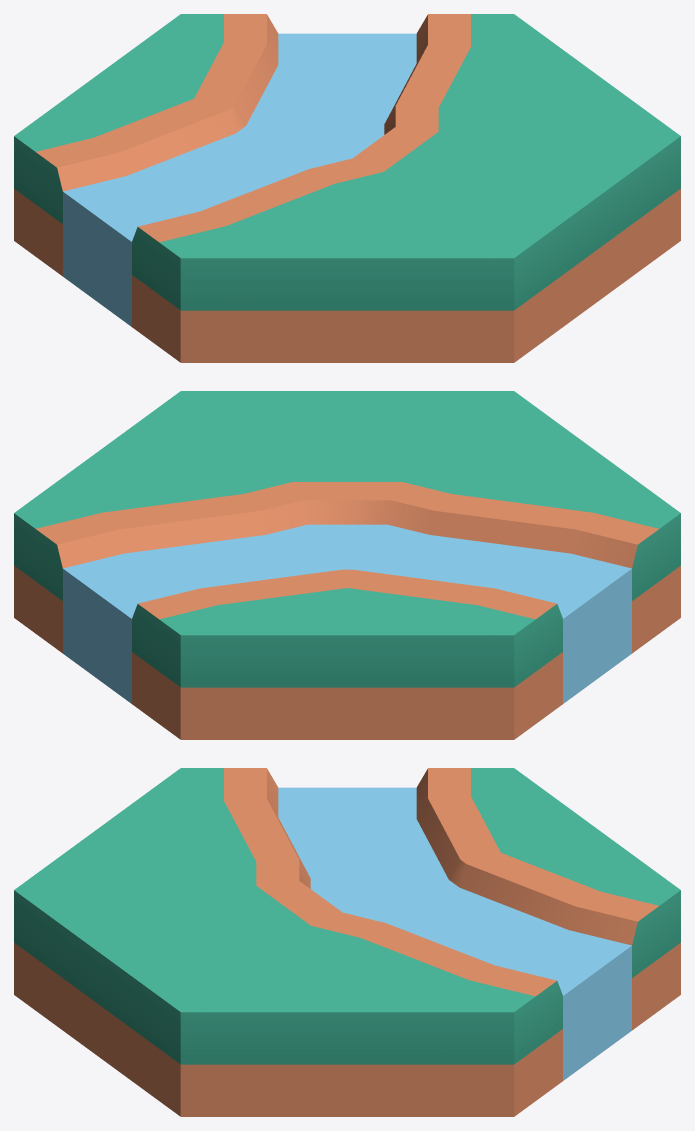
The model's file is river-corner.fbx.
3 renders of one model, top to bottom at view 1: azimuth 30°, elevation 25°; view 2: azimuth 150°, elevation 25°; view 3: azimuth 270°, elevation 25°, orthographic.
Visible parts, largest first — view 1: river_corner; view 2: river_corner; view 3: river_corner.
Part boxes in pixels (x1,y1,x2,y2): river_corner: (14,14,680,362); river_corner: (14,391,680,739); river_corner: (14,768,680,1116).
Bounding box in the file's own units: 100 × 20 × 115.
1 material, 1 textured.
